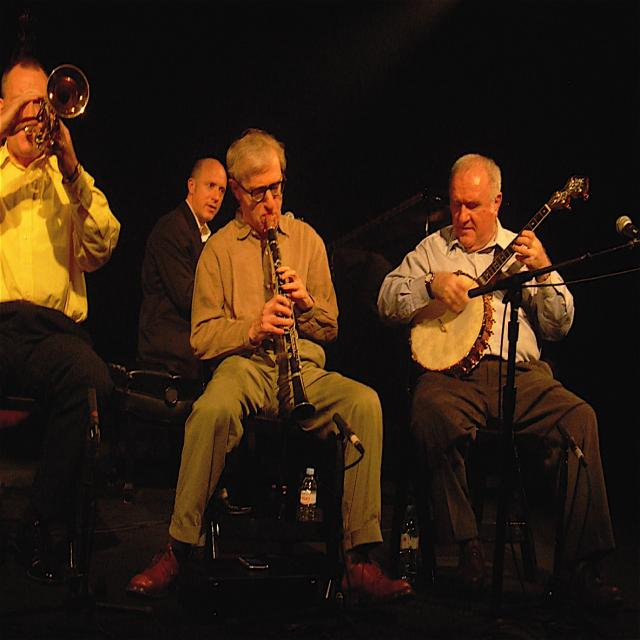clarinet: (262, 212, 320, 424)
